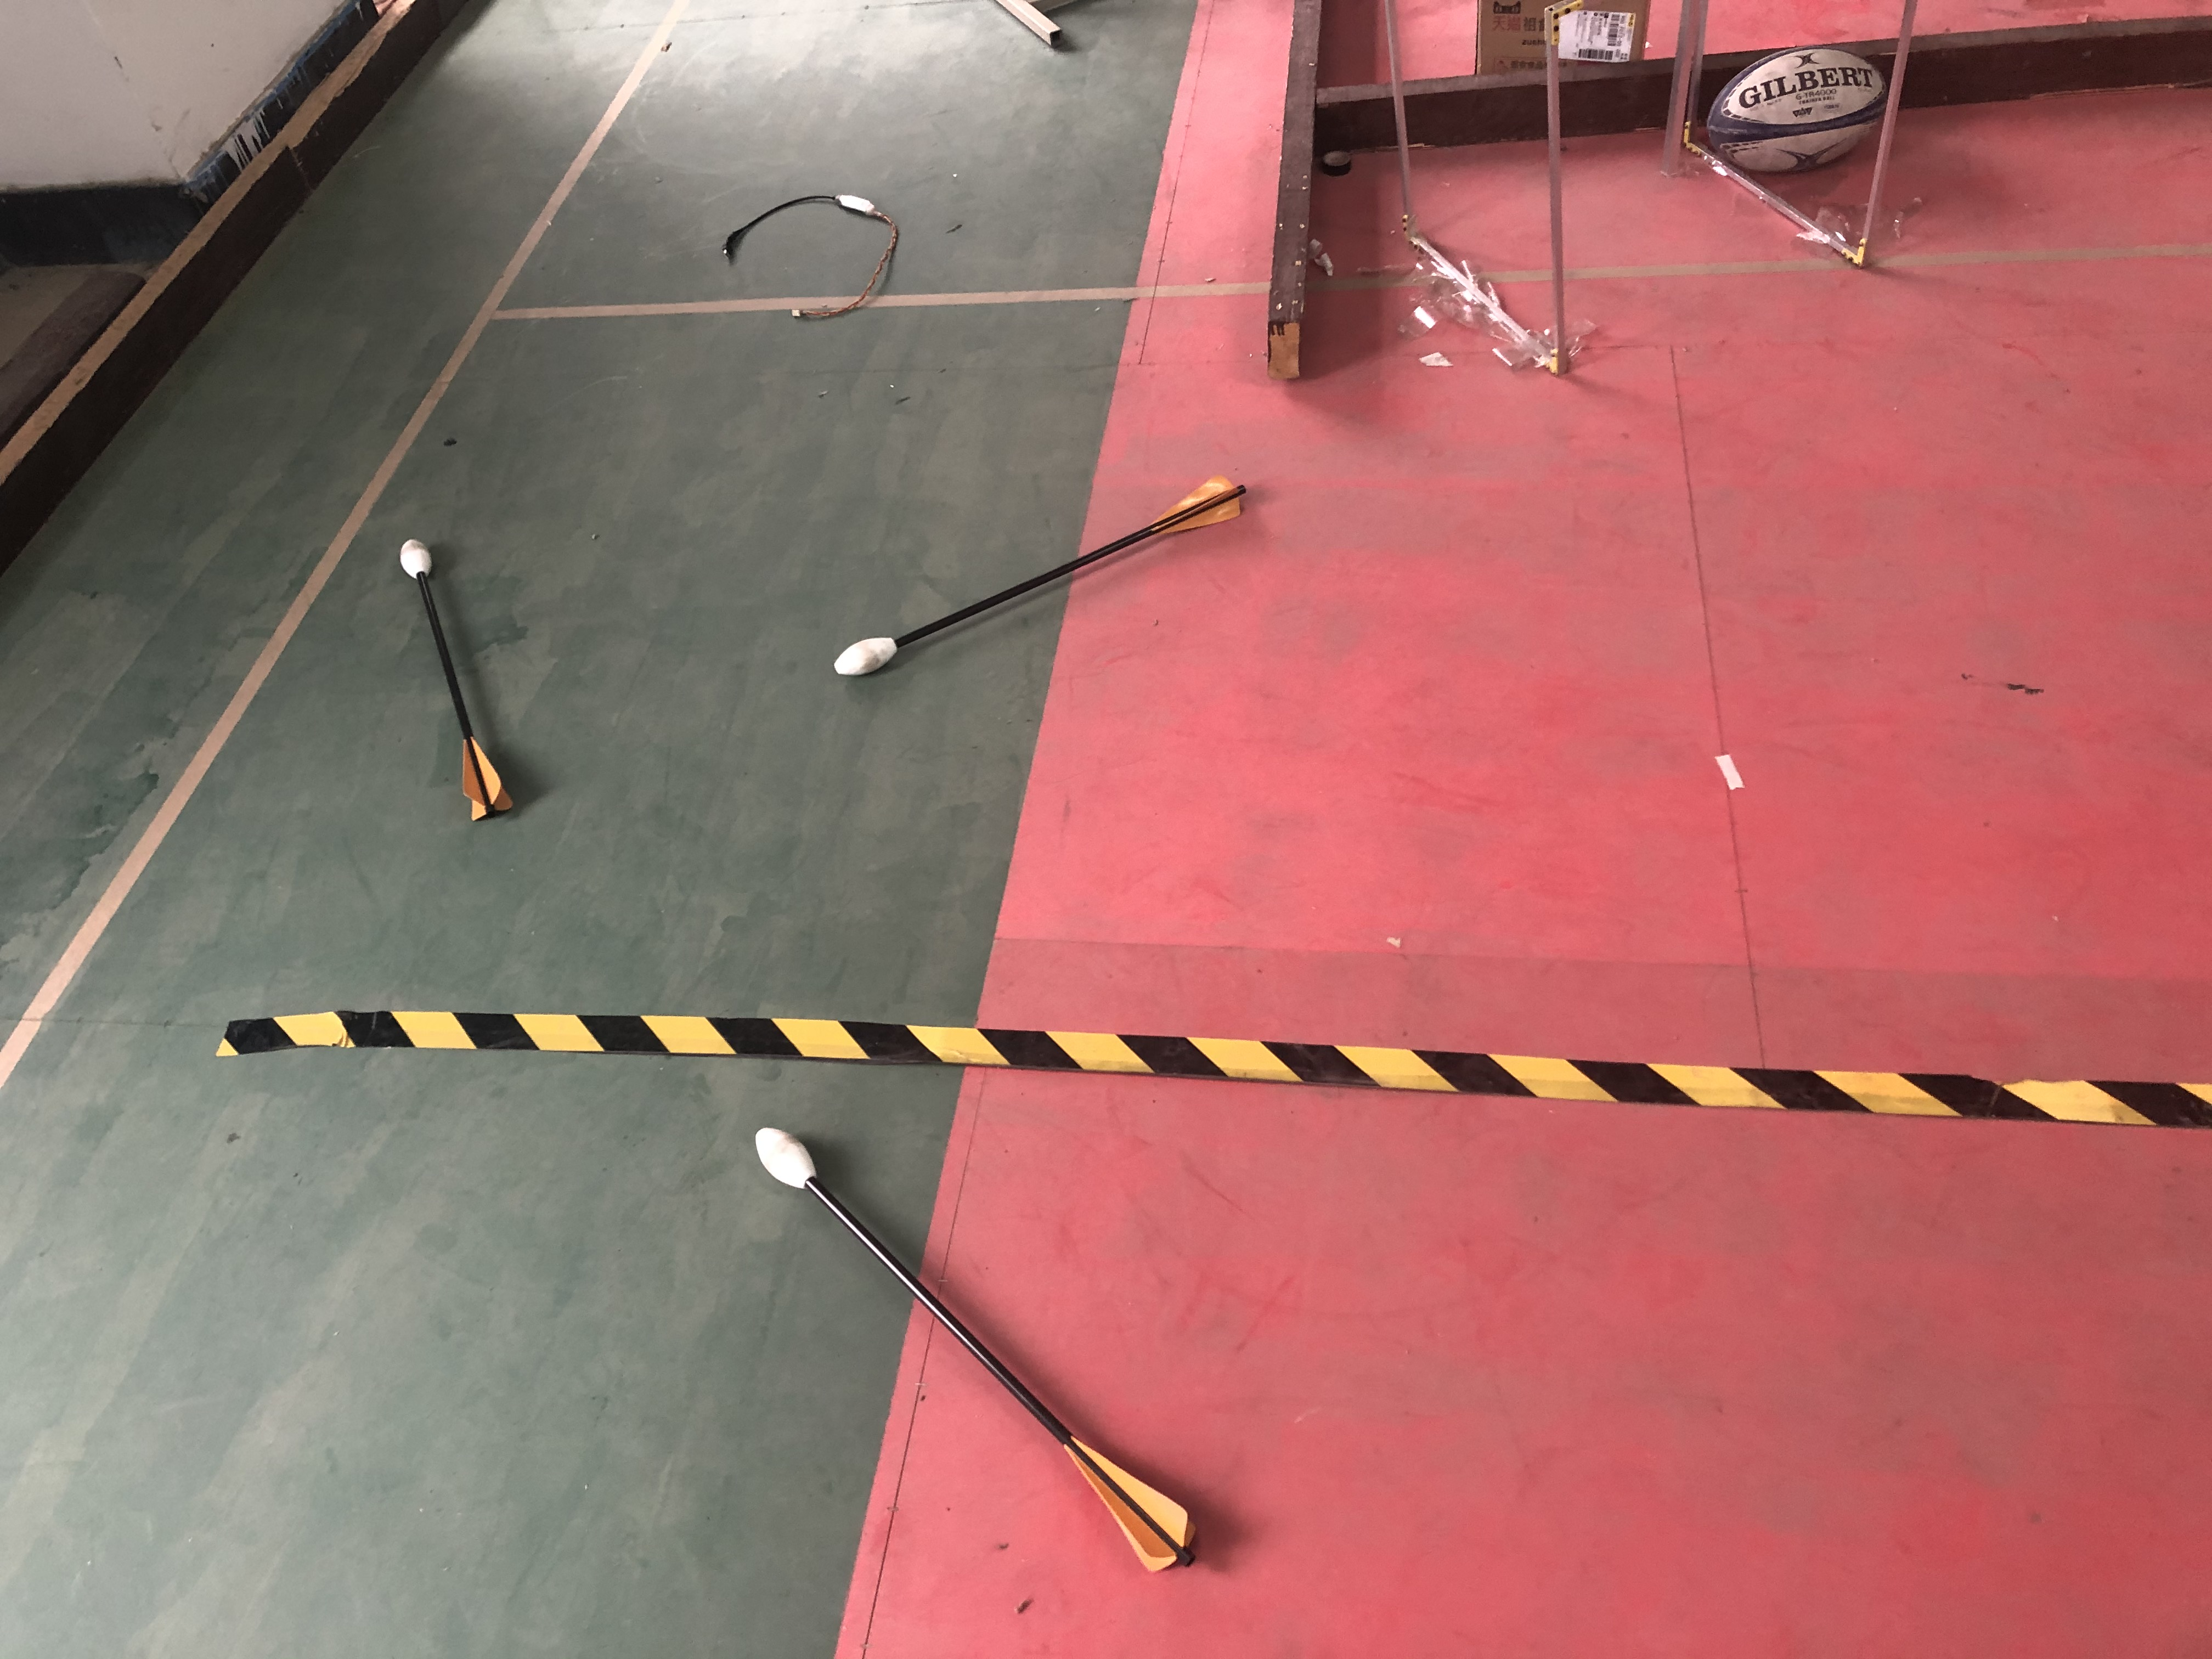arrow: (747, 1114, 1214, 1579), (834, 476, 1251, 681), (392, 532, 524, 824)
arrowFront: (752, 1121, 822, 1194), (833, 634, 897, 681), (394, 535, 432, 584)
